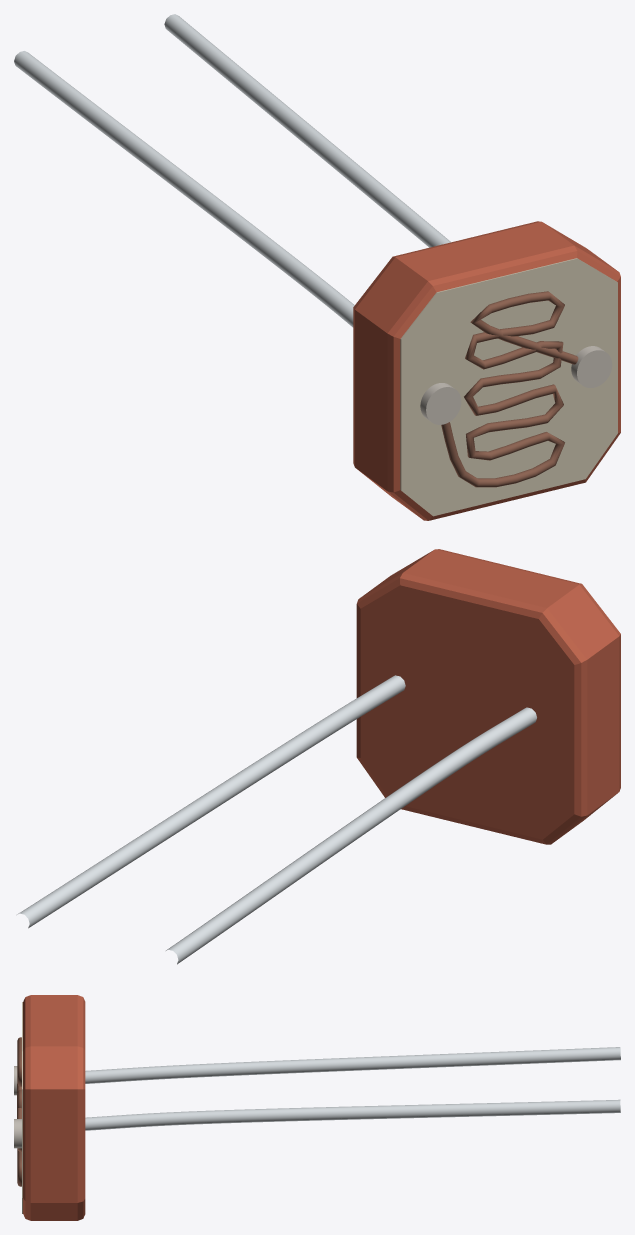
File: sensors-21.glb
The picture shows the model from 3 angles, top to bottom: view 1: azimuth 30°, elevation 25°; view 2: azimuth 150°, elevation 25°; view 3: azimuth 270°, elevation 25°; orthographic projection. The views are drawn at different scales.
Parts seen in each view (by area): view 1: substrate, leads, trace, contacts; view 2: substrate, leads; view 3: leads, substrate, trace, contacts.
Boxes of the visible parts, x1,y1,x2,y2 form: substrate: (353, 221, 620, 520); leads: (14, 14, 450, 327); trace: (441, 291, 578, 487); contacts: (420, 346, 612, 424); substrate: (356, 549, 620, 844); leads: (17, 675, 536, 964); leads: (85, 1047, 620, 1130); substrate: (22, 995, 85, 1220); trace: (17, 1037, 21, 1186); contacts: (14, 1066, 21, 1148).
Size of the model in its own units: 0.578 by 0.568 by 1.82.
